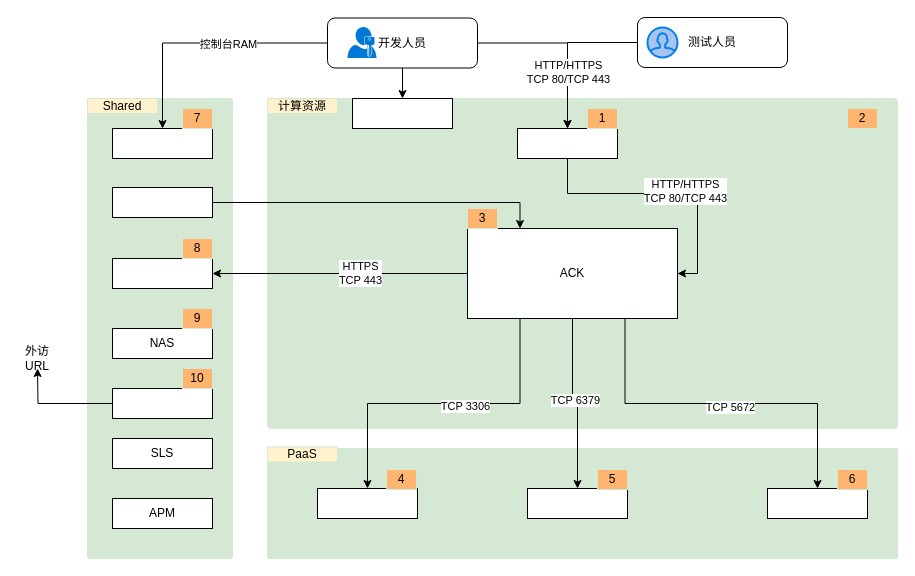
Some shapes in this 915 by 576 pixel diagram are drawn without their labels. The centre of each missing label's shape, as x and y in pixels:
ACR: point 162,202
ELB: point 567,143
NAT: point 162,403
OSS: point 162,273
rabbitmq: point 817,503
RDS: point 367,503
redis: point 577,503
VPN？: point 402,113
云效: point 162,143
